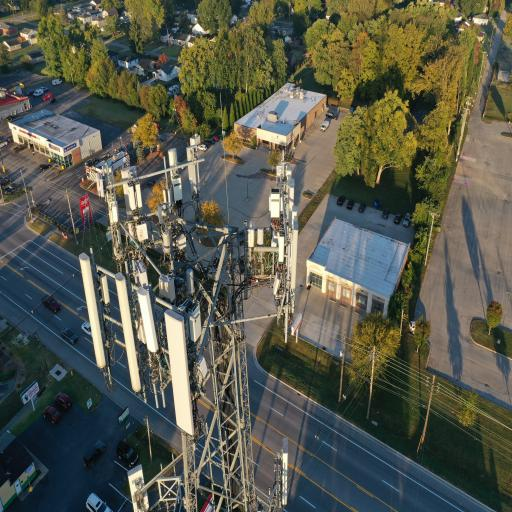supporting_tower: (78, 132, 302, 512)
